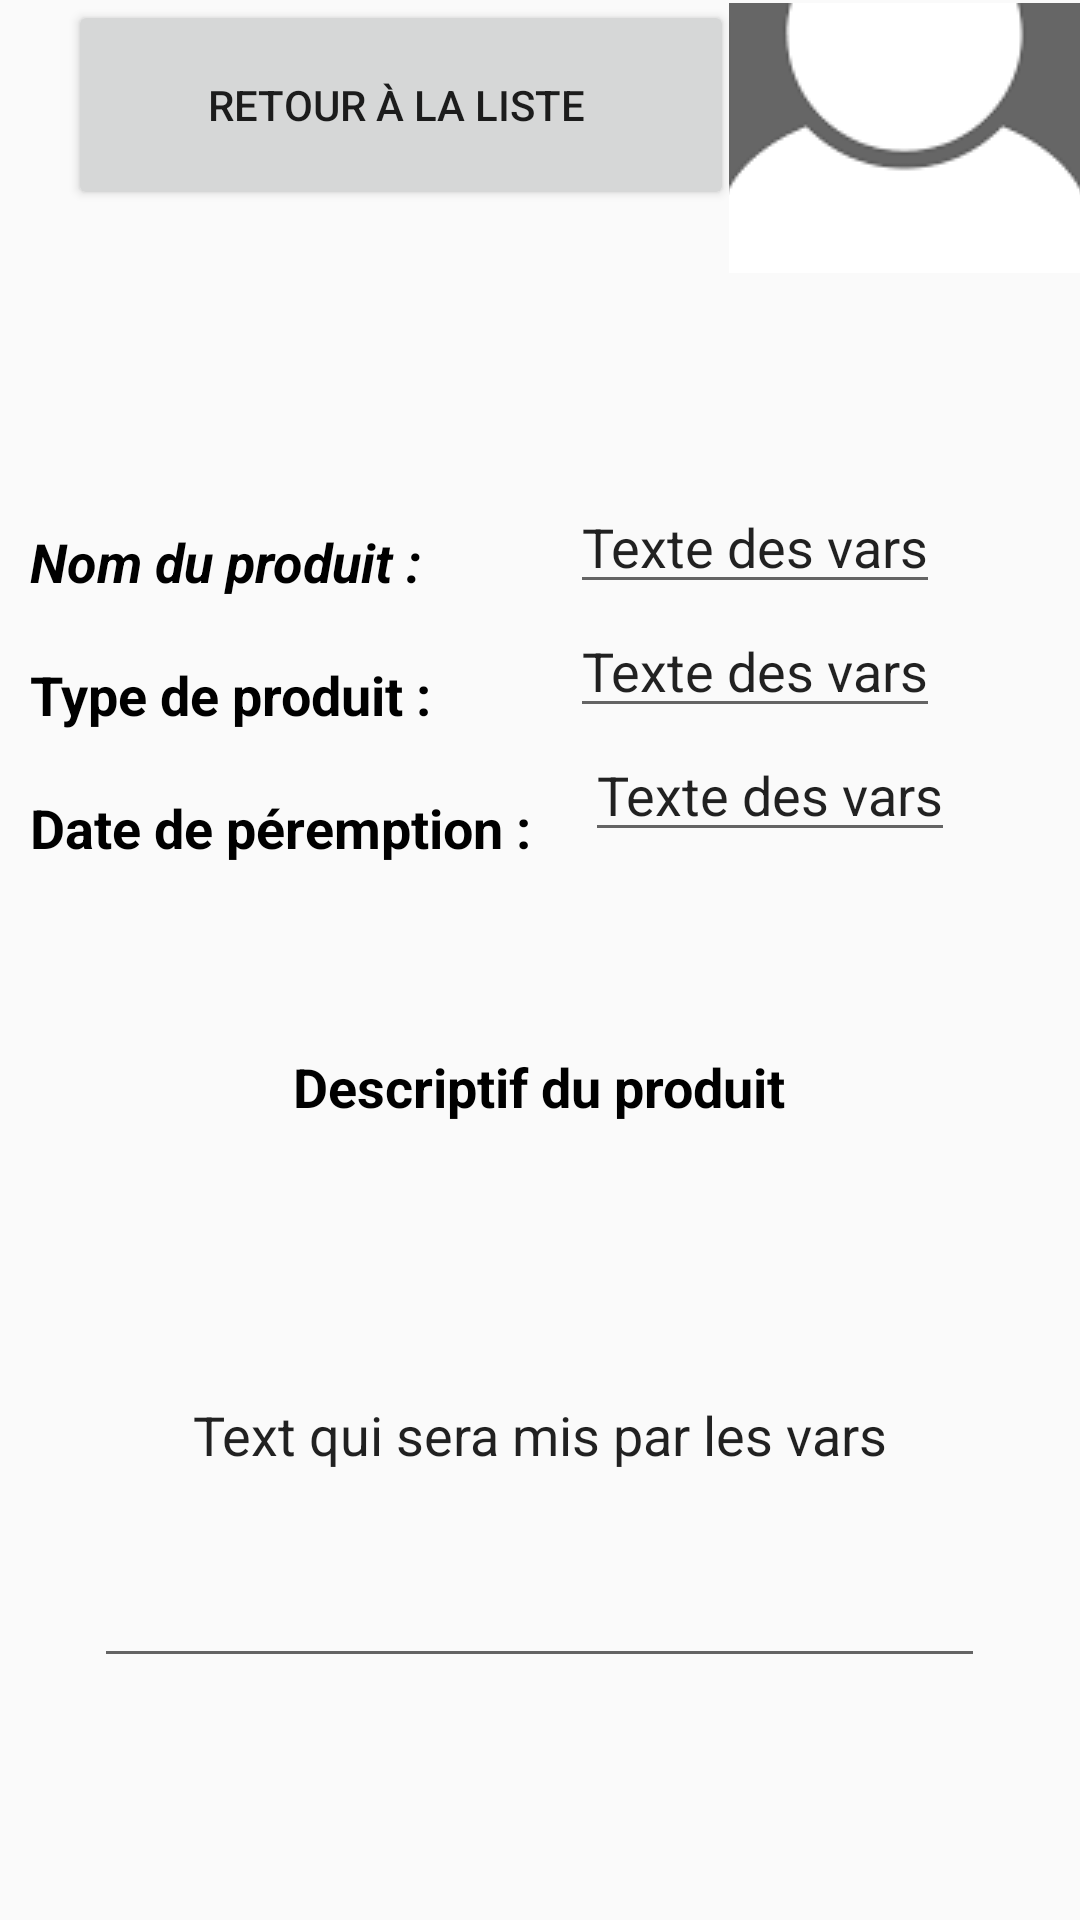

Named icons in this screenshot (1080x1920) and their bounding boxes, [x1,y1,x2,y2]:
compte: [729,3,1080,192]
